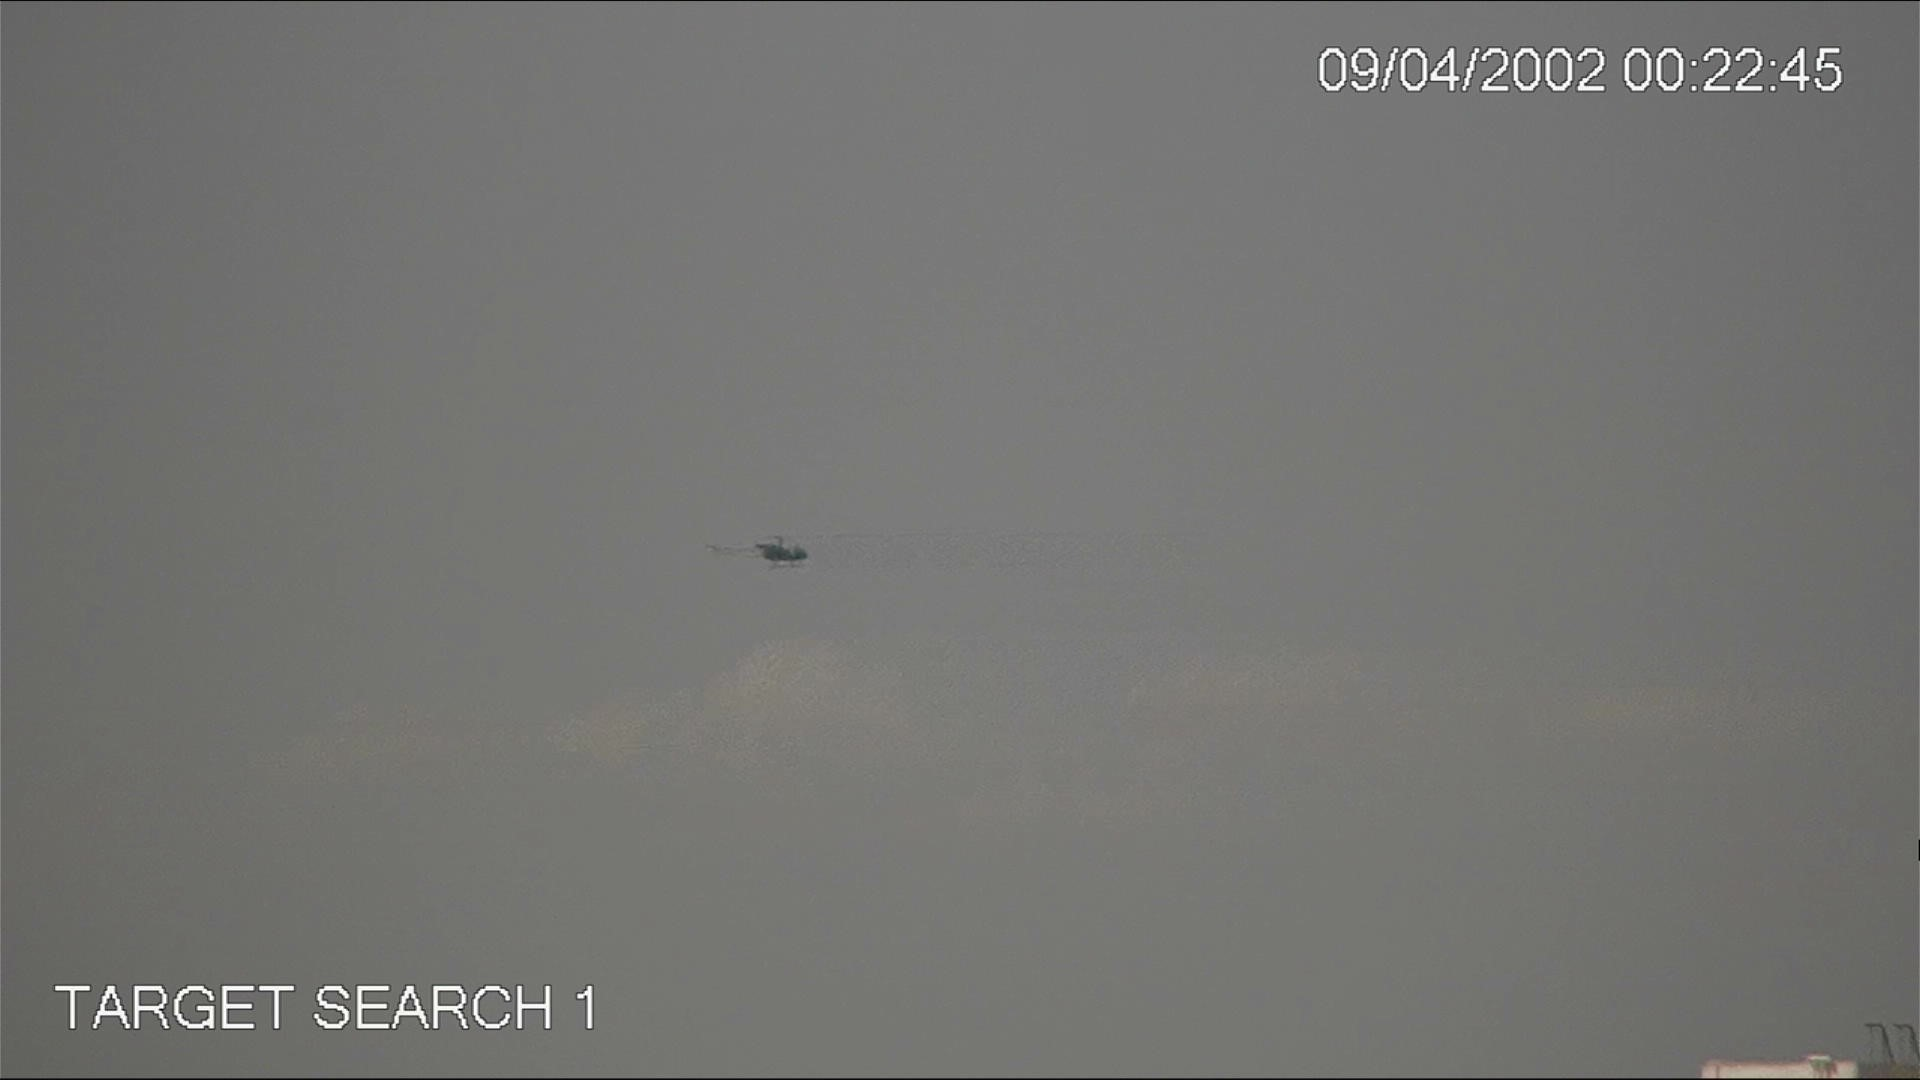SU_30: (704, 530, 811, 570)
